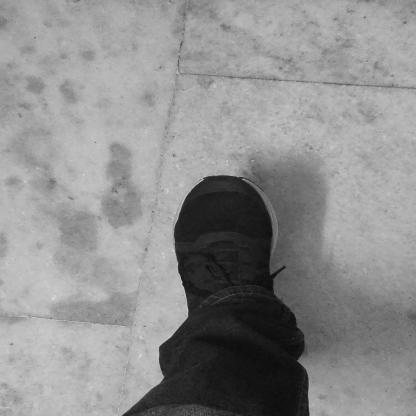ankle: (236, 289, 238, 292)
heel: (191, 310, 194, 314)
left_foot: (173, 176, 281, 325)
pinky: (188, 198, 190, 200)
toe: (250, 193, 254, 196)
